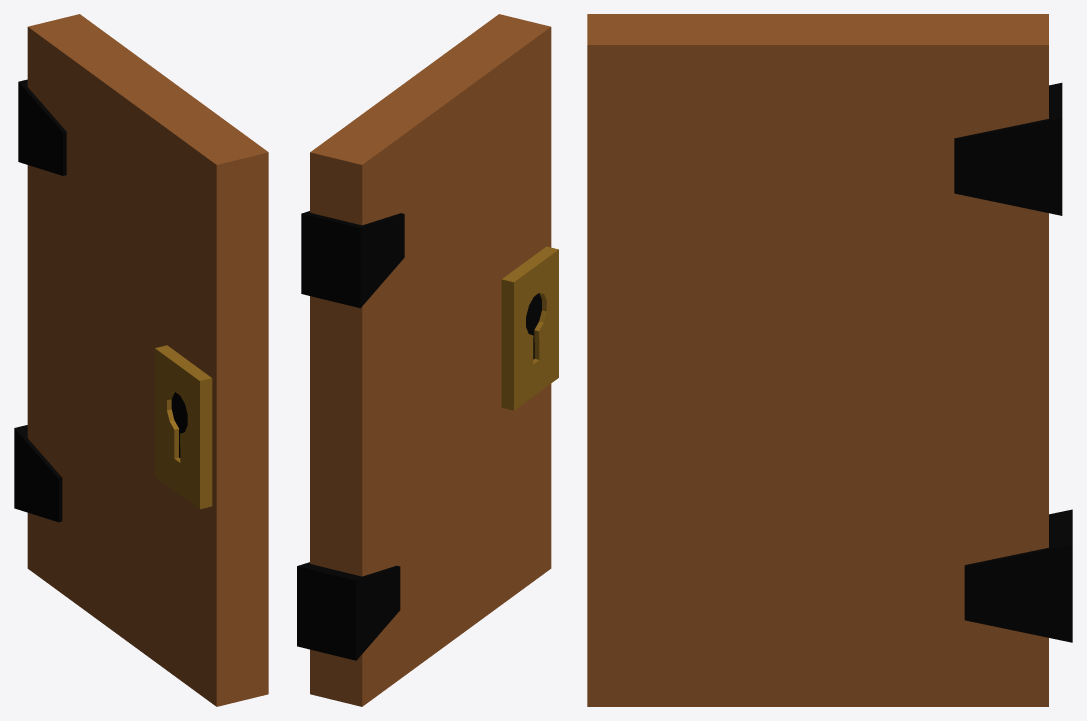
Rendered from door_lock.fbx.
3 renders of one model, left to right at view 1: azimuth 30°, elevation 25°; view 2: azimuth 150°, elevation 25°; view 3: azimuth 270°, elevation 25°, orthographic. The views are drawn at different scales.
Visible parts, largest first — view 1: Door, Lock, Hinge, Hinge.001; view 2: Door, Lock, Hinge, Hinge.001; view 3: Door, Hinge, Hinge.001.
Boxes of the visible parts, bbox=[...] form: Door: bbox=[27, 14, 268, 706]; Lock: bbox=[155, 345, 212, 509]; Hinge: bbox=[14, 425, 62, 522]; Hinge.001: bbox=[18, 79, 66, 175]; Door: bbox=[310, 14, 551, 706]; Lock: bbox=[501, 246, 558, 410]; Hinge: bbox=[297, 562, 400, 660]; Hinge.001: bbox=[301, 211, 404, 308]; Door: bbox=[587, 14, 1048, 706]; Hinge: bbox=[964, 509, 1072, 642]; Hinge.001: bbox=[954, 83, 1062, 215].
Bounding box in the file's own units: 0.7936 × 6.06 × 4.03.
